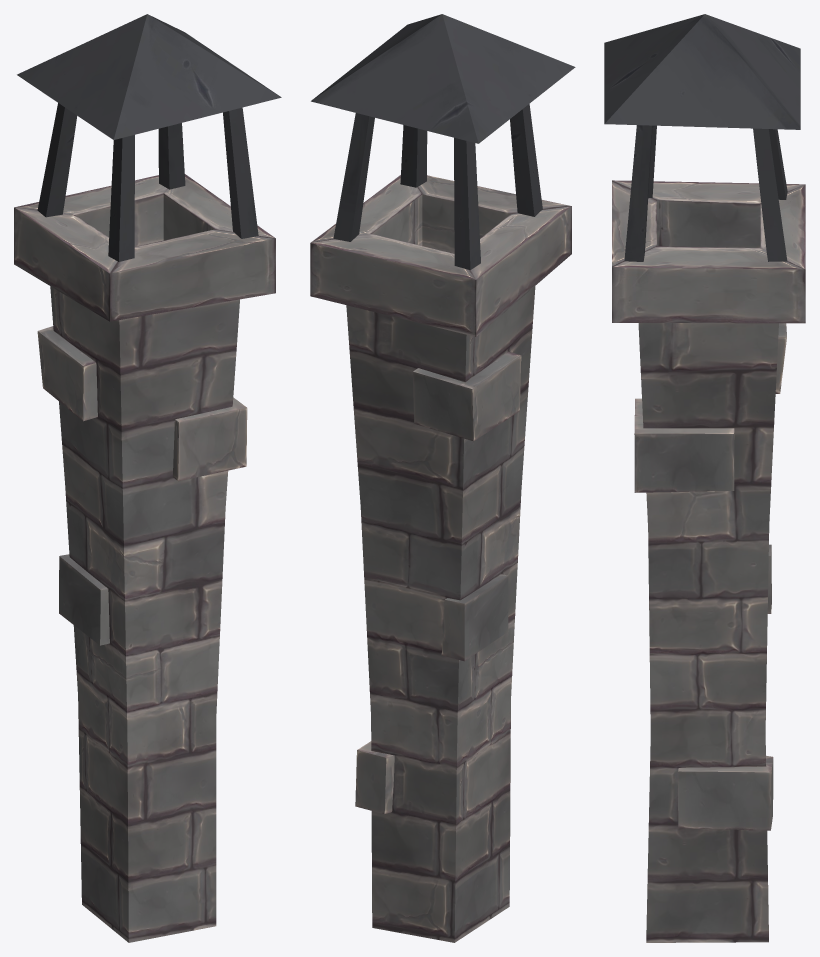
Rendered from SM_BLD_chimney_v01_03.glb.
3 renders of one model, left to right at view 1: azimuth 30°, elevation 25°; view 2: azimuth 150°, elevation 25°; view 3: azimuth 270°, elevation 25°, orthographic.
Visible parts, largest first — view 1: SM_BLD_chimney_v01_03_EXPORT; view 2: SM_BLD_chimney_v01_03_EXPORT; view 3: SM_BLD_chimney_v01_03_EXPORT.
Boxes of the visible parts, box(x1,y1,x2,y2) form: SM_BLD_chimney_v01_03_EXPORT: box(14, 14, 281, 942); SM_BLD_chimney_v01_03_EXPORT: box(310, 14, 575, 942); SM_BLD_chimney_v01_03_EXPORT: box(604, 14, 805, 942).
Bounding box in the file's own units: 1.44 × 7.38 × 1.48.
2 materials, 2 textured.
